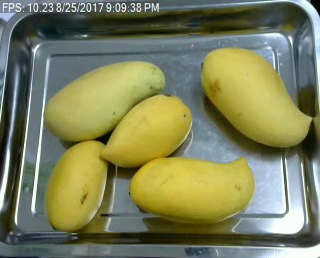Mango: (199, 42, 315, 150), (40, 56, 166, 144), (128, 157, 255, 223), (99, 93, 194, 168), (45, 141, 111, 231)
